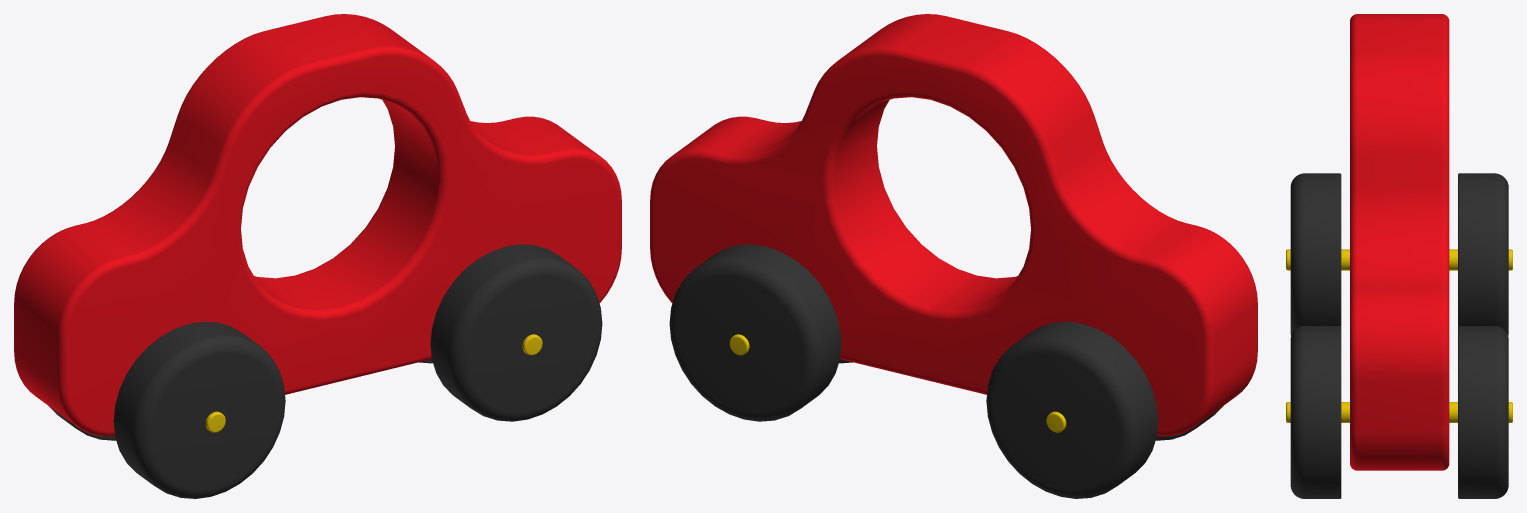
The model's file is toy_car.glb.
The picture shows the model from 3 angles, left to right: view 1: azimuth 30°, elevation 25°; view 2: azimuth 150°, elevation 25°; view 3: azimuth 270°, elevation 25°; orthographic projection.
Visible parts, largest first — view 1: Object_2, Object_3, Object_4; view 2: Object_2, Object_3, Object_4; view 3: Object_2, Object_3, Object_4.
Part boxes in pixels (x1,y1,x2,y2): Object_2: (14,14,621,436); Object_3: (49,244,602,498); Object_4: (205,334,542,432); Object_2: (650,14,1257,436); Object_3: (669,244,1222,498); Object_4: (729,334,1066,432); Object_2: (1350,14,1449,470); Object_3: (1290,173,1508,498); Object_4: (1286,249,1512,422).
Size of the model in its own units: 3.42 by 2.22 by 1.21.
